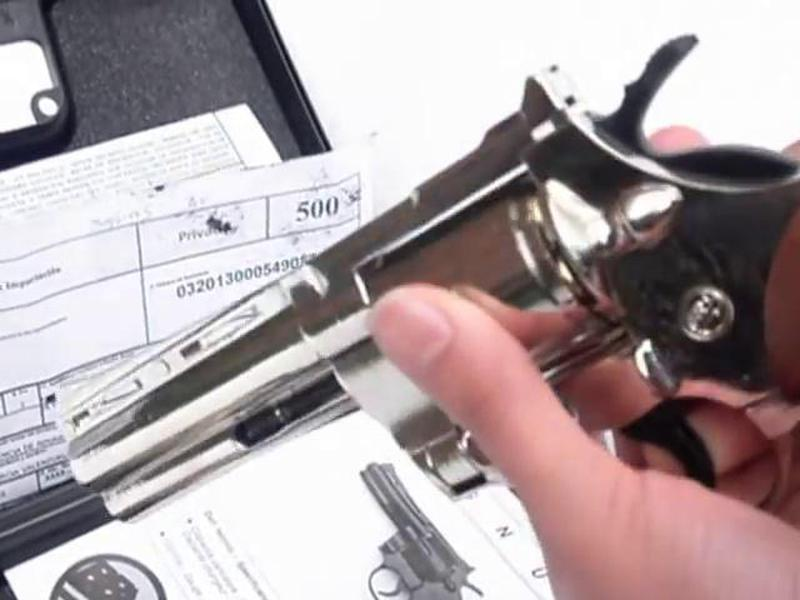Revolver: (59, 55, 800, 522)
